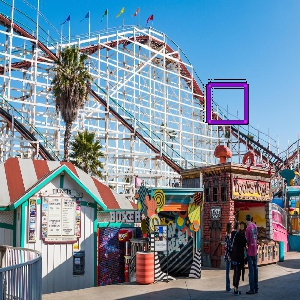square: (204, 80, 251, 127)
